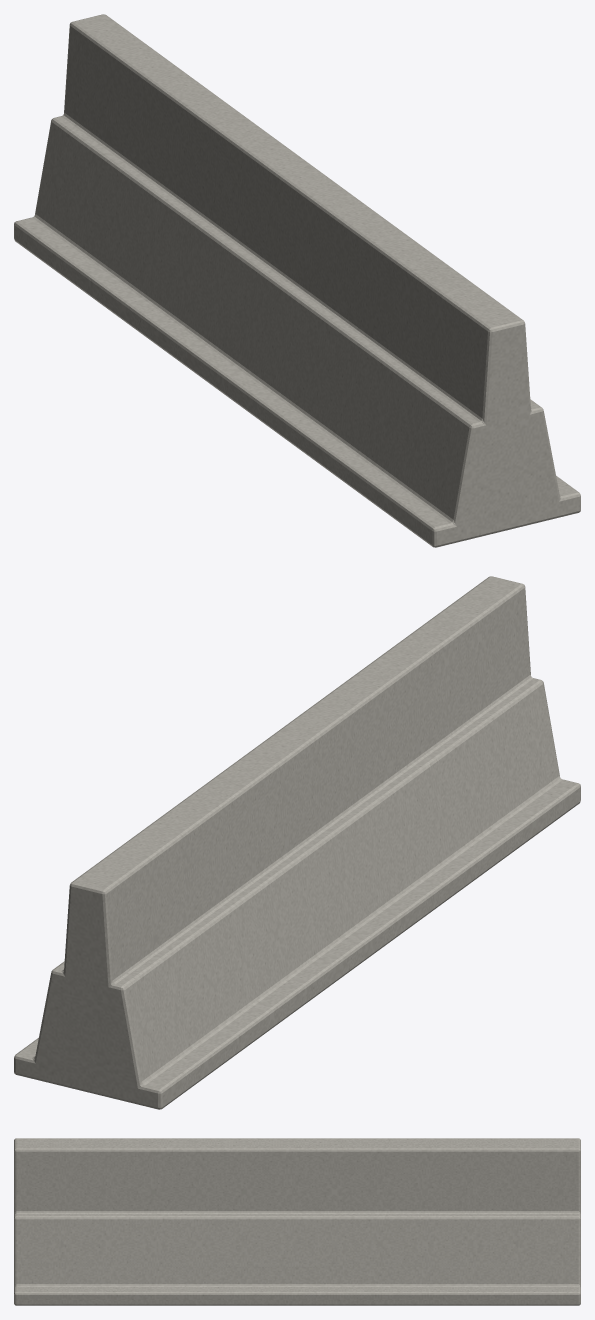
Rendered from krail_concrete_3m.dae.
The picture shows the model from 3 angles, top to bottom: view 1: azimuth 30°, elevation 25°; view 2: azimuth 150°, elevation 25°; view 3: azimuth 270°, elevation 25°; orthographic projection. The views are drawn at different scales.
Parts seen in each view (by area): view 1: krail; view 2: krail; view 3: krail.
Part boxes in pixels (left/top/right/bottom): krail: left=14, top=14, right=580, bottom=547; krail: left=14, top=576, right=580, bottom=1109; krail: left=14, top=1138, right=580, bottom=1305.
Bounding box in the file's own units: 0.61 × 3 × 0.81.
1 material, 1 textured.
